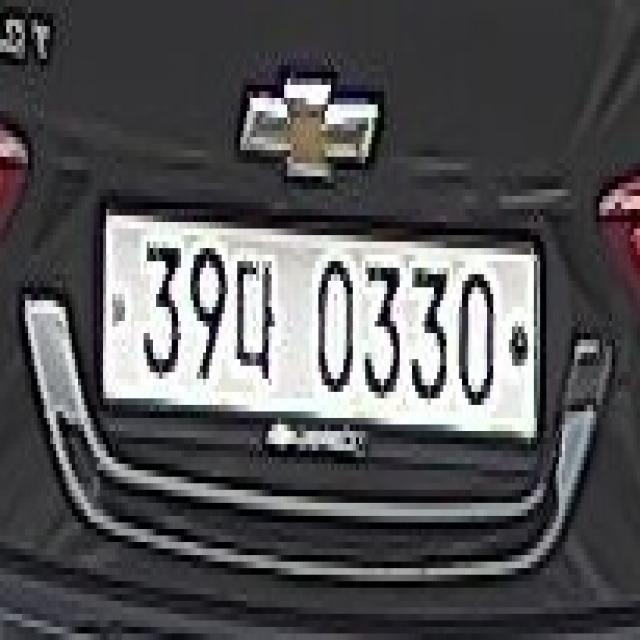0: (453, 268, 496, 411), (315, 262, 356, 398)
3: (362, 255, 403, 398), (144, 235, 184, 379), (412, 261, 450, 405)
9: (187, 242, 228, 385)
da: (231, 248, 278, 385)
license_plate: (97, 203, 543, 444)
